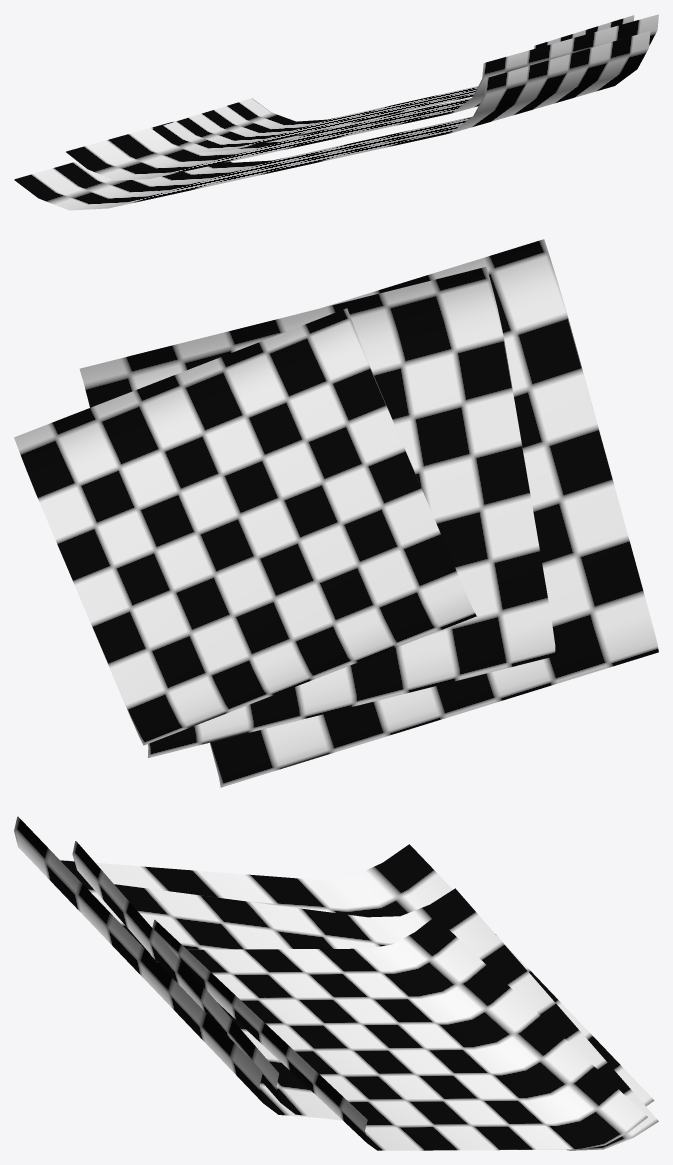
Rendered from initqu64.dae.
3 renders of one model, top to bottom at view 1: azimuth 30°, elevation 25°; view 2: azimuth 150°, elevation 25°; view 3: azimuth 270°, elevation 25°, orthographic. The views are drawn at different scales.
Parts seen in each view (by area): view 1: item; view 2: item; view 3: item.
Boxes of the visible parts, x1,y1,x2,y2 form: item: (14,14,658,210); item: (14,239,658,787); item: (14,816,658,1150).
Size of the model in its own units: 1.63 by 1.43 by 0.7503.
Materials: 1 (1 with a texture image).
